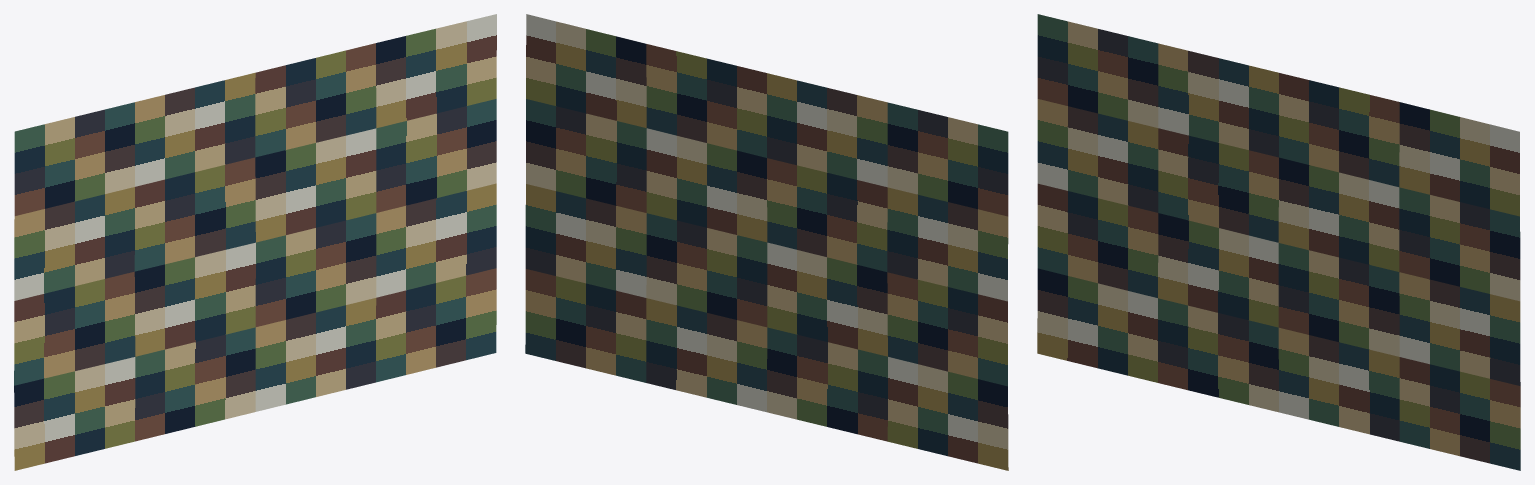
3 views of the same model, side by side, from view 1: azimuth 30°, elevation 25°; view 2: azimuth 150°, elevation 25°; view 3: azimuth 330°, elevation 25° (orthographic).
Size of the model in its own units: 11547 by 7762 by 27.79.
1 material, 1 textured.
